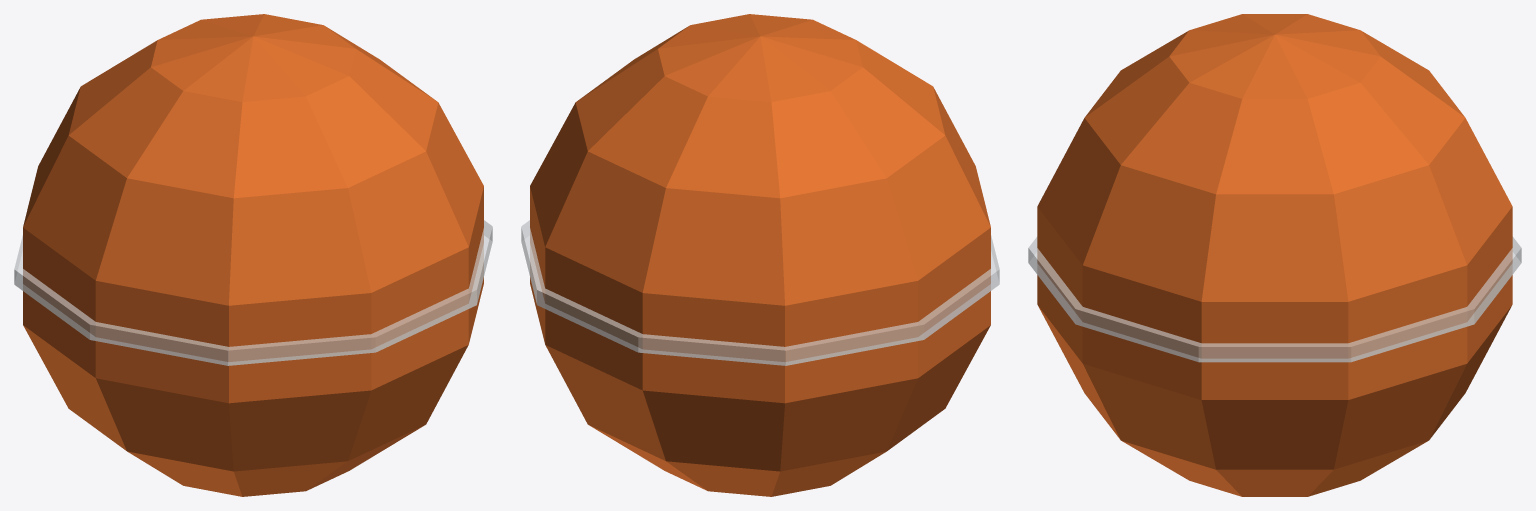
The model's file is paintball_orange.glb.
The picture shows the model from 3 angles, left to right: view 1: azimuth 30°, elevation 25°; view 2: azimuth 150°, elevation 25°; view 3: azimuth 270°, elevation 25°; orthographic projection.
Visible parts, largest first — view 1: paintball_orange; view 2: paintball_orange; view 3: paintball_orange.
Part boxes in pixels (x1=…): paintball_orange: x1=14, y1=14, x2=492, y2=496; paintball_orange: x1=521, y1=14, x2=999, y2=496; paintball_orange: x1=1028, y1=14, x2=1521, y2=496.
Bounding box in the file's own units: 0.0165 × 0.0172 × 0.0174.
